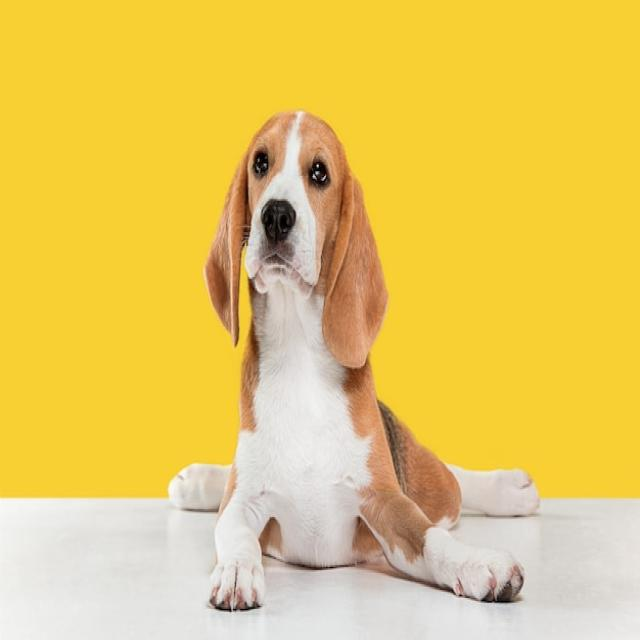Dog: (167, 110, 540, 612)
